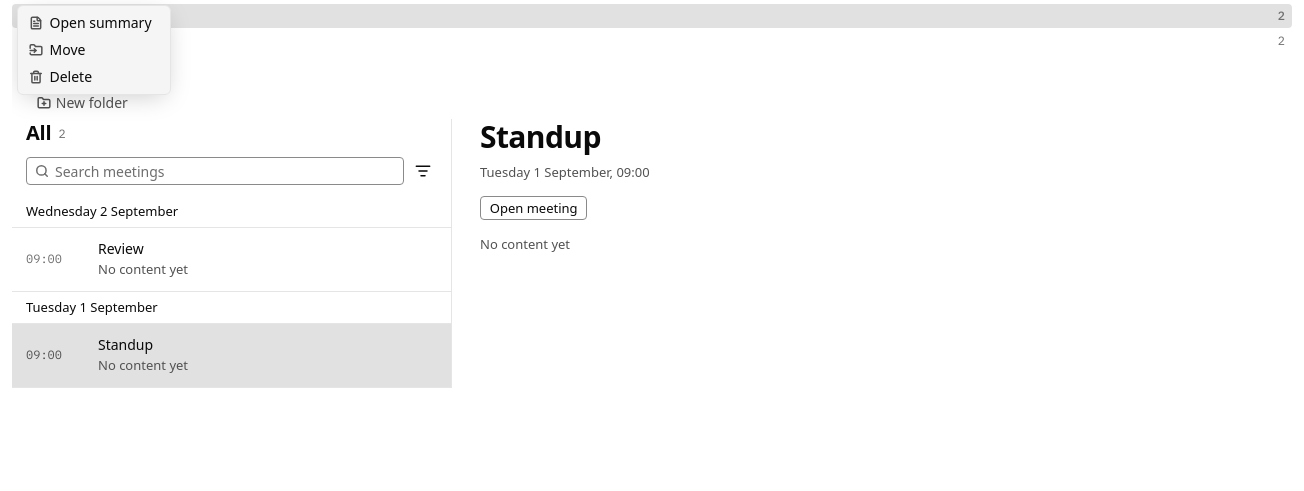
Scenario: the meeting row › item 114: right click and the more button both open Open summary, Move, Delete in that order
Expected: the menu item "Move" is shown, x1=28 y1=40 x2=85 y2=59
Press Escape
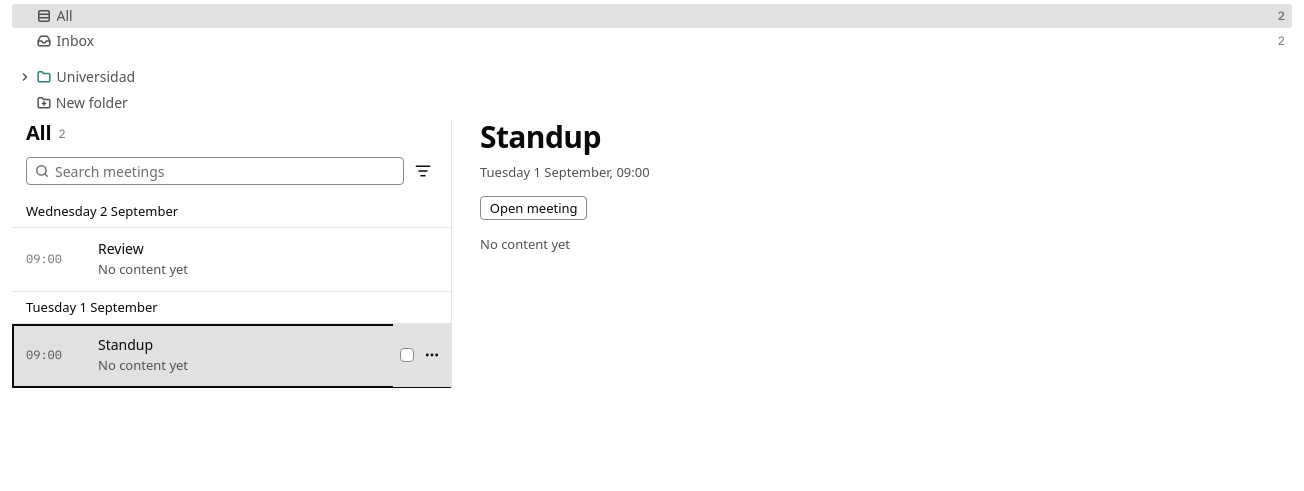
Expected: the menu item is gone
Click the button named "More actions".
click(432, 355)  # box x1=418 y1=341 x2=446 y2=369
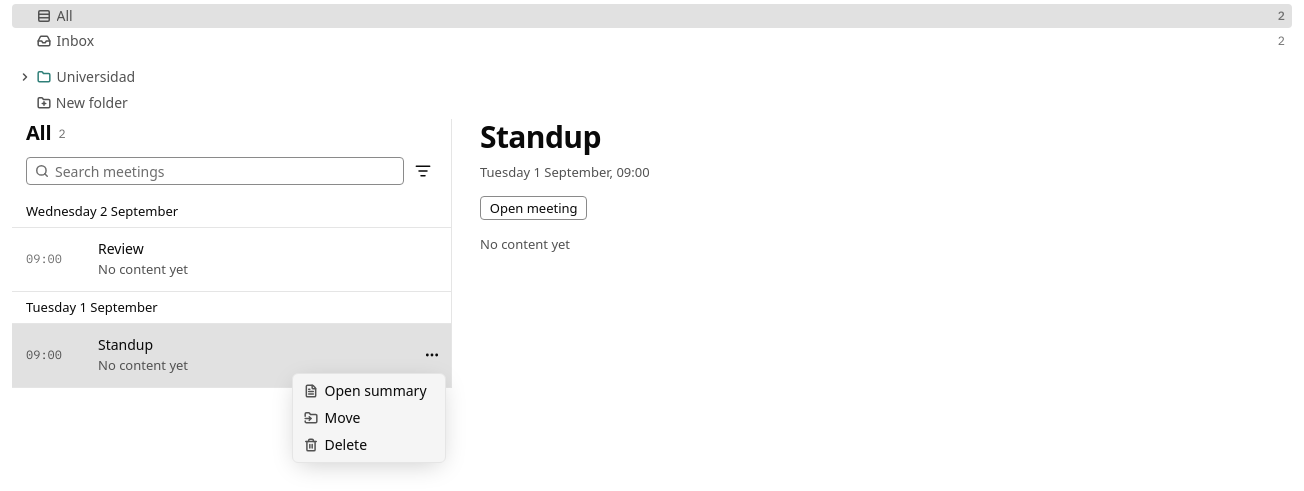
Expected: the menu item "Move" is shown, x1=304 y1=408 x2=360 y2=427
